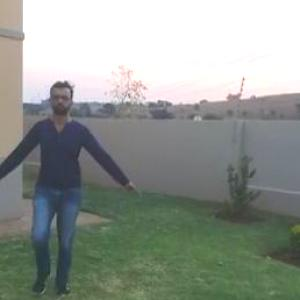land: (0, 94, 141, 278)
